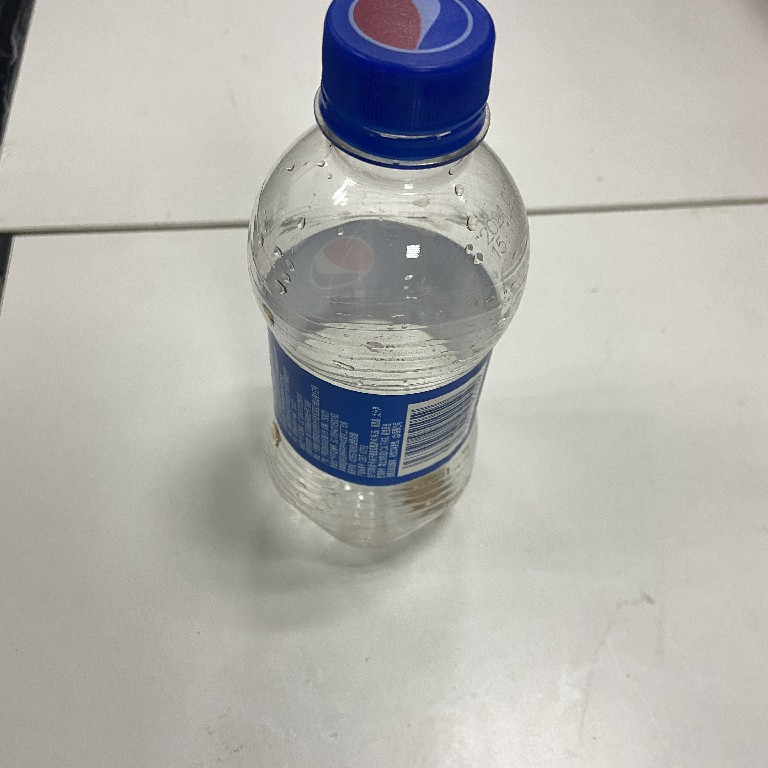bottle: (241, 1, 534, 555)
